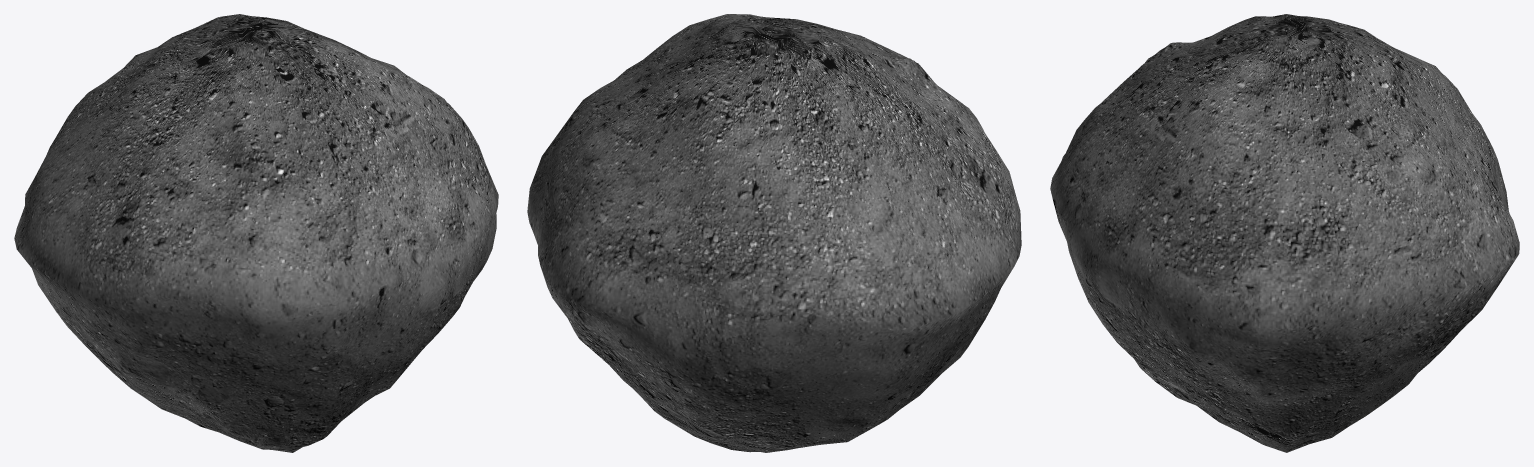
File: bennu.glb
3 renders of one model, left to right at view 1: azimuth 30°, elevation 25°; view 2: azimuth 150°, elevation 25°; view 3: azimuth 270°, elevation 25°, orthographic. The views are drawn at different scales.
Parts seen in each view (by area): view 1: bennu; view 2: bennu; view 3: bennu.
Part boxes in pixels (x1,y1,x2,y2): bennu: (14, 14, 498, 452); bennu: (527, 14, 1021, 452); bennu: (1050, 14, 1519, 452).
Bounding box in the file's own units: 2.3 × 2.07 × 2.18.
Materials: 1 (1 with a texture image).
